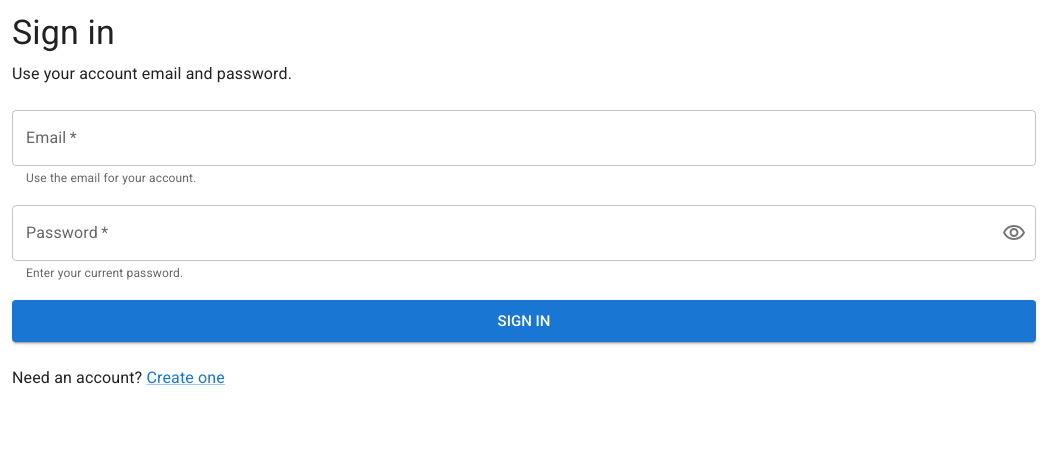
Test: AuthForm › recovers from a network failure and permits another submission
Type "person@example.com" into the field labelled "Email *" at (524, 138), box [12,110,1036,166]
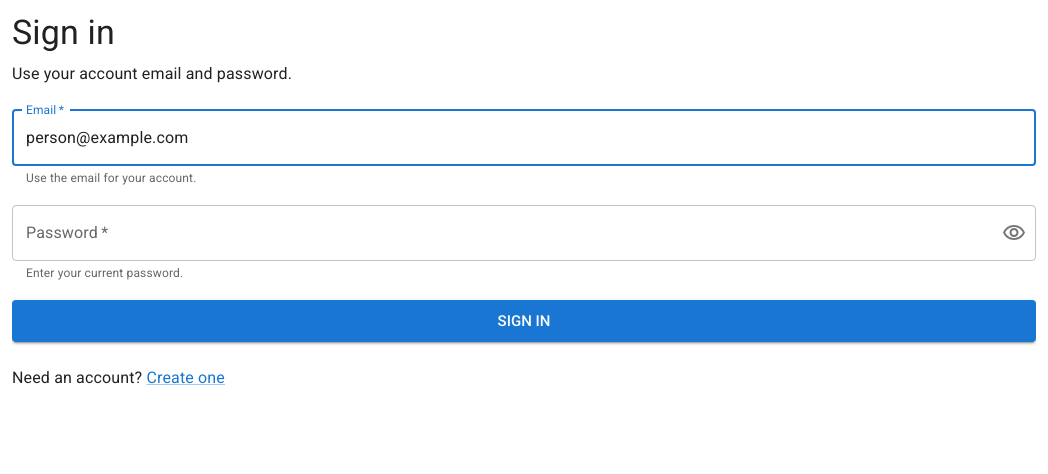
Type "legacy password" into the password field labelled "Password *" at (499, 233), box [12,205,986,261]
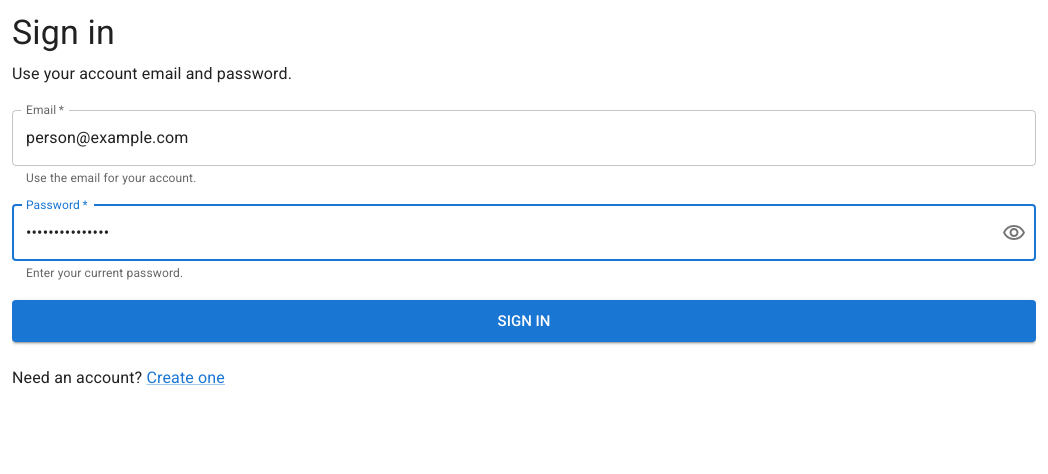
Click the button "Sign in" at (524, 321), box [12,300,1036,342]
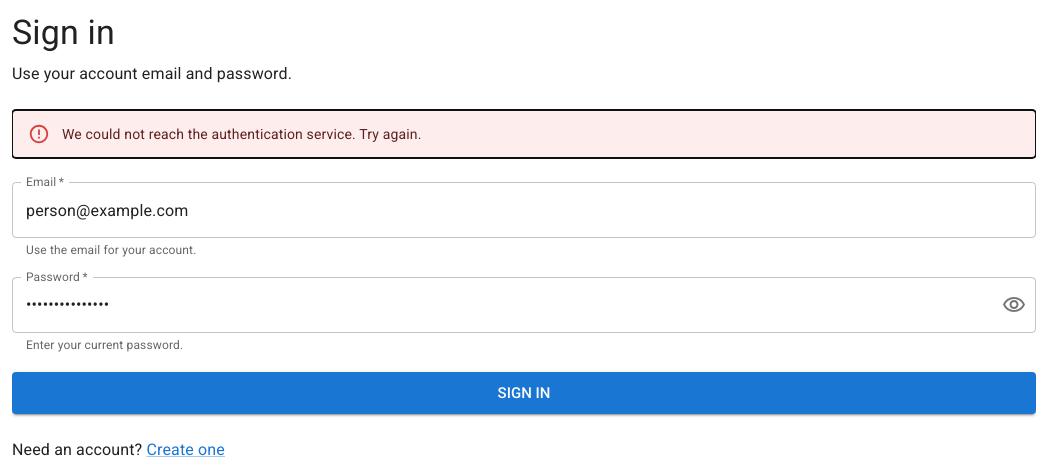
Expected: the button "Sign in" is enabled, [12,372,1036,414]
Expected: the text "We could not reach the authentication service. Try again." is shown, [62,126,422,142]
